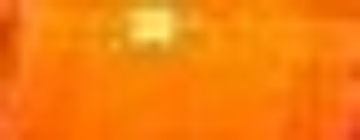Hotspot: (109, 2, 186, 51)
